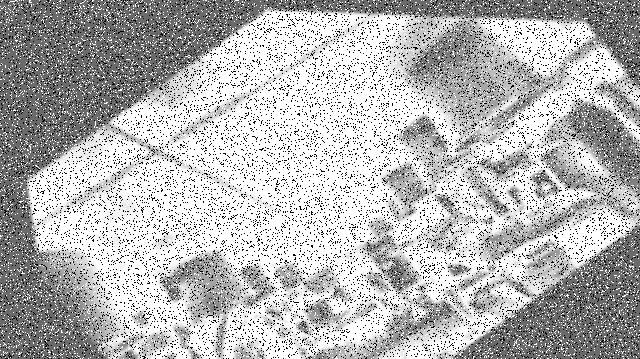pot: (406, 19, 554, 154), (37, 248, 145, 359), (171, 250, 255, 326), (398, 113, 482, 186), (382, 161, 438, 212), (239, 262, 279, 308), (273, 261, 307, 292), (385, 198, 417, 222), (367, 216, 391, 239)
